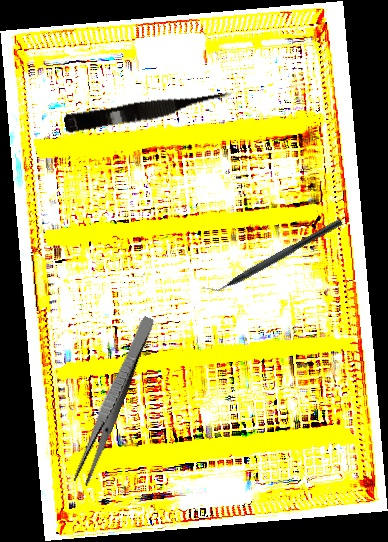Chopper: (200, 209, 344, 302)
Dressing Forceps: (70, 313, 157, 487)
Micro Scissor: (63, 85, 235, 138)
